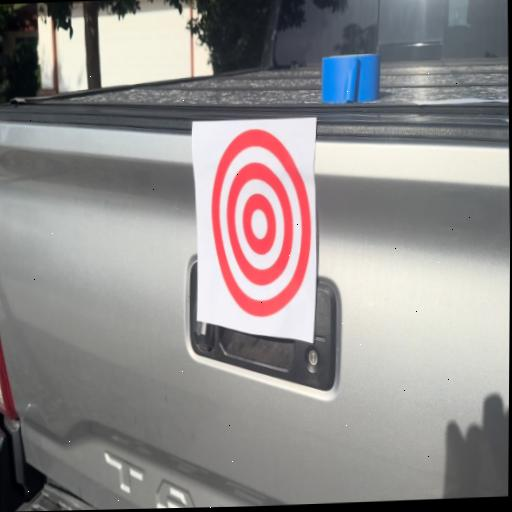bullseye: (208, 118, 317, 318)
